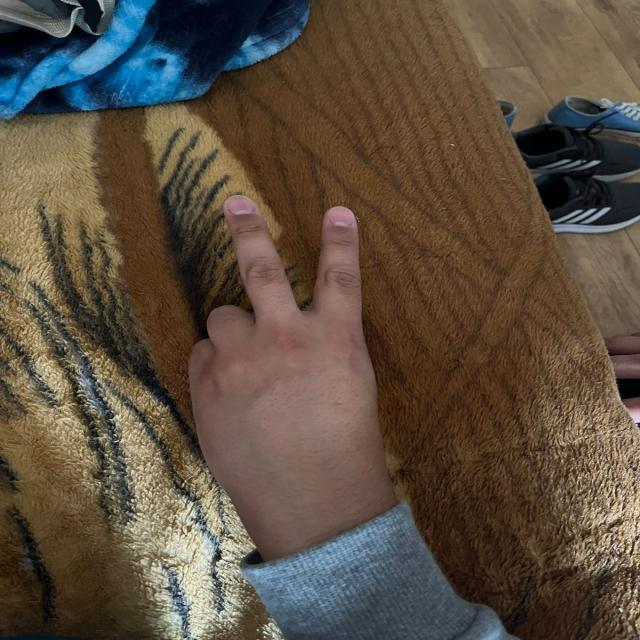V: (181, 188, 391, 522)
